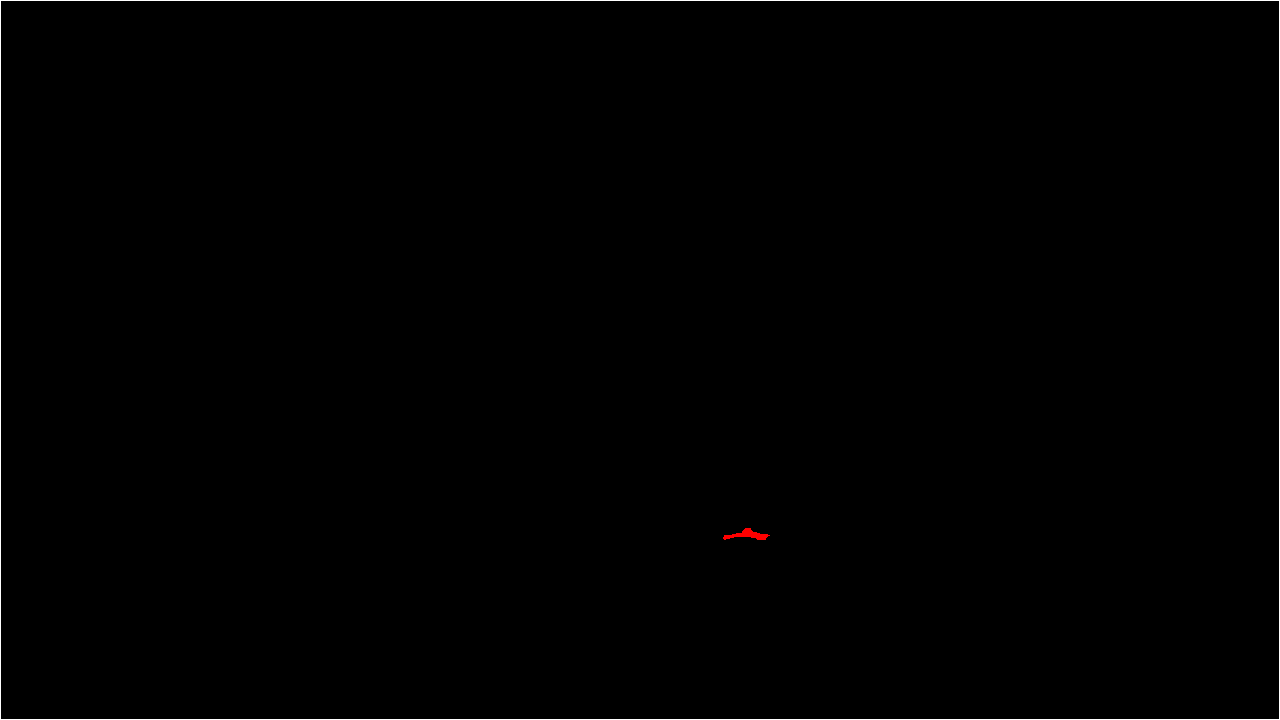drone: (715, 519, 780, 559)
